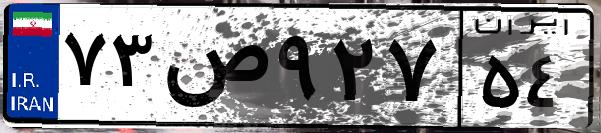2: (330, 28, 385, 110)
3: (110, 28, 158, 98)
4: (525, 38, 570, 115)
5: (475, 38, 525, 113)
7: (385, 28, 445, 110), (57, 26, 110, 100)
9: (270, 28, 330, 110)
ص: (158, 20, 270, 120)
